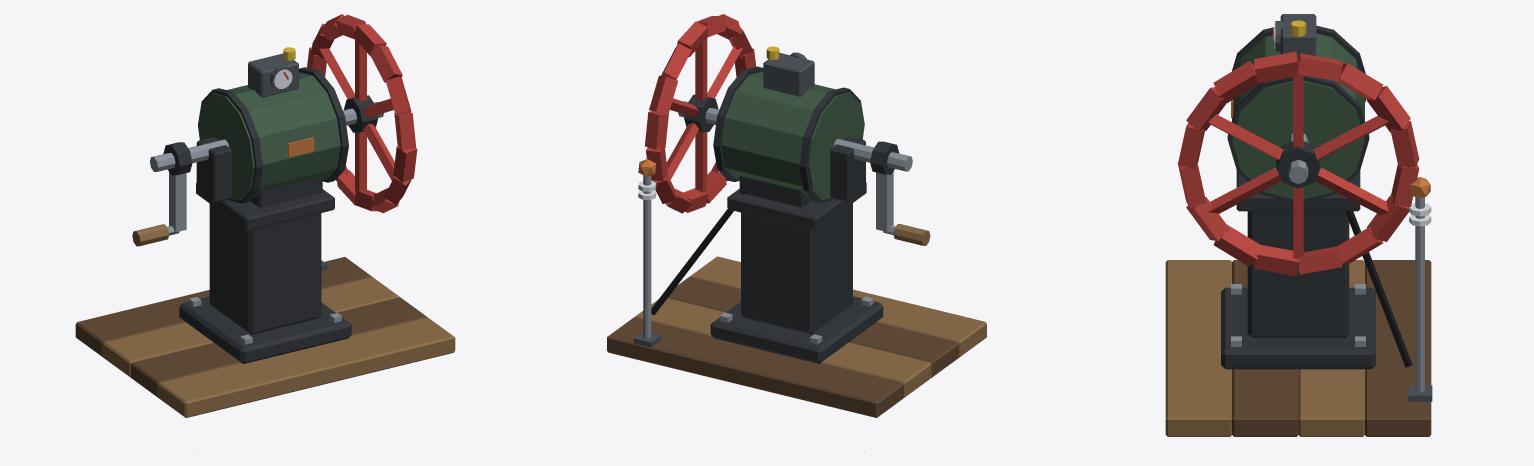
The model's file is manivelle_reamorcage.glb.
The picture shows the model from 3 angles, left to right: view 1: azimuth 30°, elevation 25°; view 2: azimuth 150°, elevation 25°; view 3: azimuth 270°, elevation 25°; orthographic projection. The views are drawn at different scales.
Parts seen in each view (by area): view 1: pieces_fonte.012, pieces_bois.002, dynamo.002, manivelle_rouge.002, pieces_bois_sombre.004, manivelle_acier.002, pieces_acier_sombre.016, manivelle_fonte.002, manivelle_bois.002; view 2: pieces_fonte.012, pieces_bois_sombre.004, dynamo.002, manivelle_rouge.002, pieces_bois.002, manivelle_acier.002, pieces_acier_sombre.016, pieces_acier.018, manivelle_fonte.002, pieces_noir.014, manivelle_bois.002; view 3: pieces_fonte.012, manivelle_rouge.002, pieces_bois.002, pieces_bois_sombre.004, dynamo.002, pieces_acier.018, pieces_acier_sombre.016, manivelle_fonte.002, pieces_noir.014, manivelle_acier.002, pieces_blanc.018.
Part boxes in pixels (<box>): pieces_fonte.012: <box>179,67,351,363</box>; pieces_bois.002: <box>103,277,455,417</box>; dynamo.002: <box>198,72,340,200</box>; manivelle_rouge.002: <box>307,14,417,213</box>; pieces_bois_sombre.004: <box>75,257,427,397</box>; manivelle_acier.002: <box>150,102,383,235</box>; pieces_acier_sombre.016: <box>248,53,327,270</box>; manivelle_fonte.002: <box>163,95,378,175</box>; manivelle_bois.002: <box>132,224,169,246</box>; pieces_fonte.012: <box>710,66,883,363</box>; pieces_bois_sombre.004: <box>607,276,959,417</box>; dynamo.002: <box>721,71,864,199</box>; manivelle_rouge.002: <box>645,14,756,213</box>; pieces_bois.002: <box>635,256,986,397</box>; manivelle_acier.002: <box>678,101,912,234</box>; pieces_acier_sombre.016: <box>633,52,814,347</box>; pieces_acier.018: <box>643,175,873,344</box>; manivelle_fonte.002: <box>684,94,899,174</box>; pieces_noir.014: <box>651,190,745,315</box>; manivelle_bois.002: <box>893,224,930,245</box>; pieces_fonte.012: <box>1221,25,1375,369</box>; manivelle_rouge.002: <box>1177,51,1419,276</box>; pieces_bois.002: <box>1165,260,1364,436</box>; pieces_bois_sombre.004: <box>1232,260,1431,436</box>; dynamo.002: <box>1232,33,1364,199</box>; pieces_acier.018: <box>1231,197,1424,392</box>; pieces_acier_sombre.016: <box>1280,14,1432,401</box>; manivelle_fonte.002: <box>1276,141,1320,188</box>; pieces_noir.014: <box>1345,210,1412,367</box>; manivelle_acier.002: <box>1288,133,1308,183</box>; pieces_blanc.018: <box>1274,23,1431,226</box>.
Size of the model in its own units: 1 by 0.8981 by 1.
